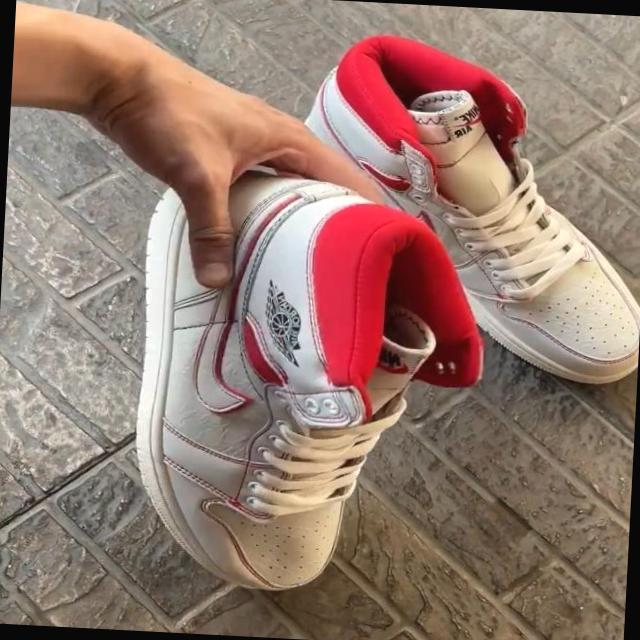nike_fake_jordan: (126, 162, 494, 607), (283, 28, 640, 384)
